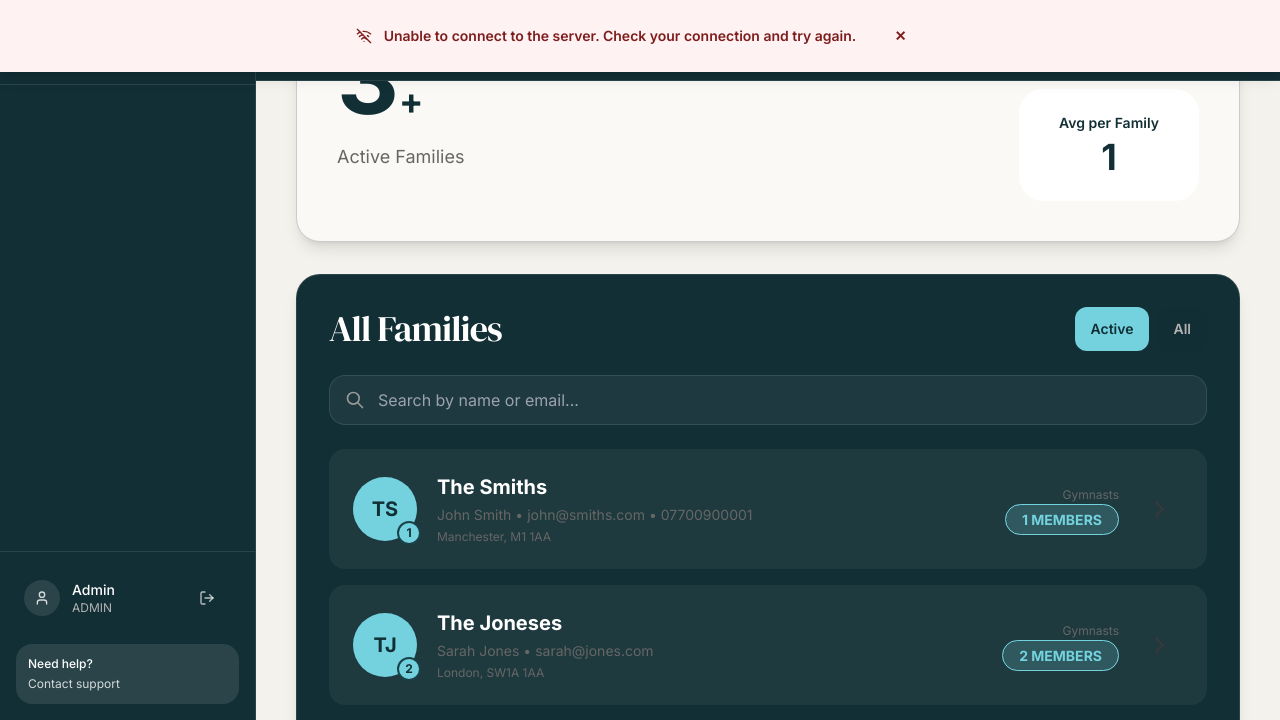
Scenario: FamiliesPage › shows an empty state when no families match the search
(page scrolled)
Expected: the heading "The Smiths" is shown, [437,475,547,499]
In the field with placeholder "Search by name or email...": (768, 400) [329,375,1207,425], type "zzzznonexistent"
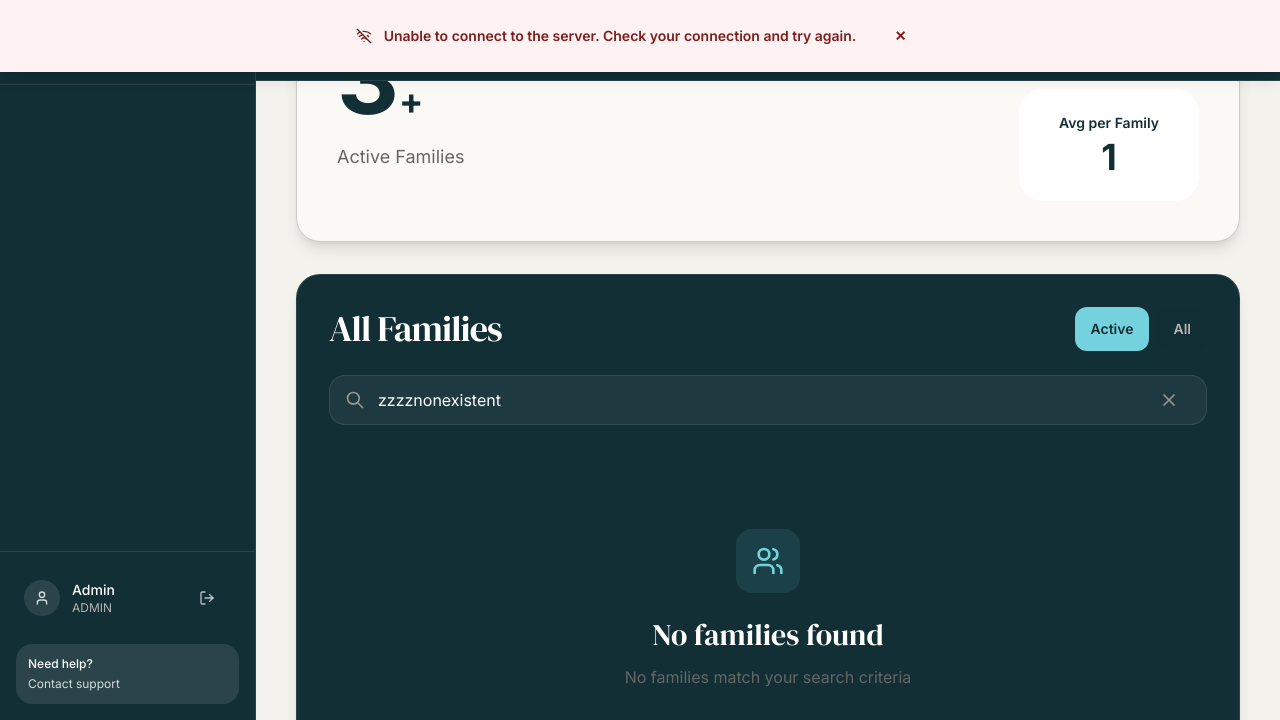
Expected: the heading "No families found" is shown, [652,617,884,653]
